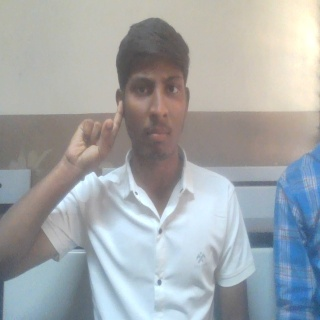Deaf: (58, 98, 125, 185)
Face: (114, 15, 190, 165)
